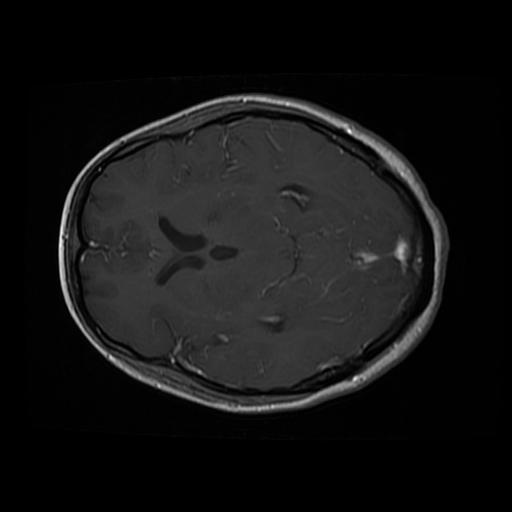glioma: (274, 183, 317, 214)
